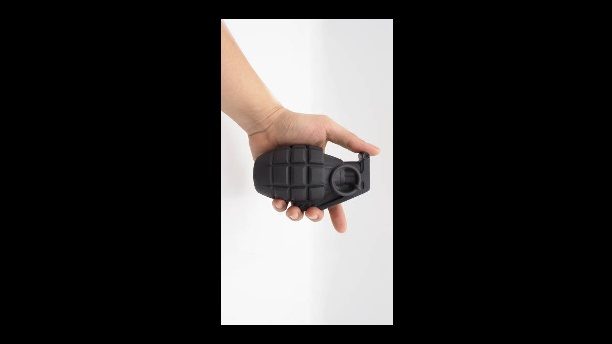e1: (246, 143, 376, 213)
